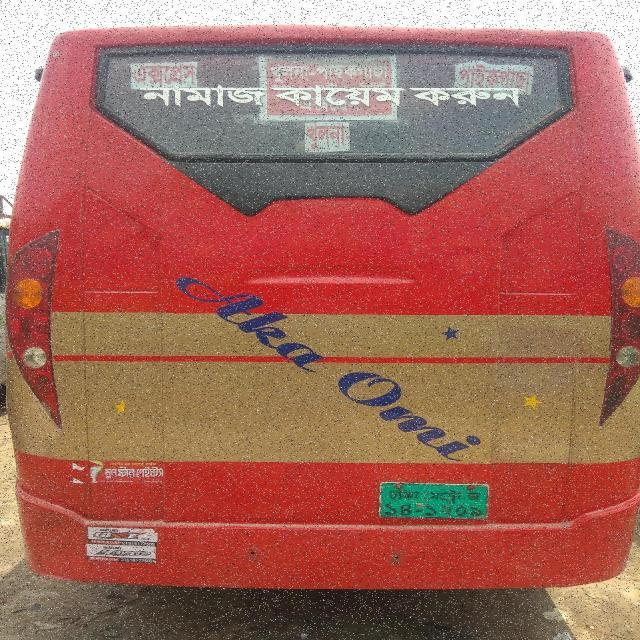numberplate: (377, 481, 489, 520)
